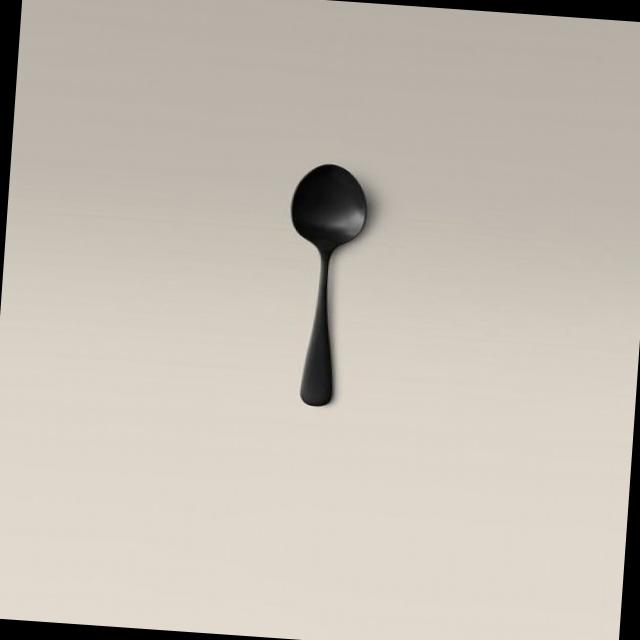spoon: (251, 147, 390, 437)
